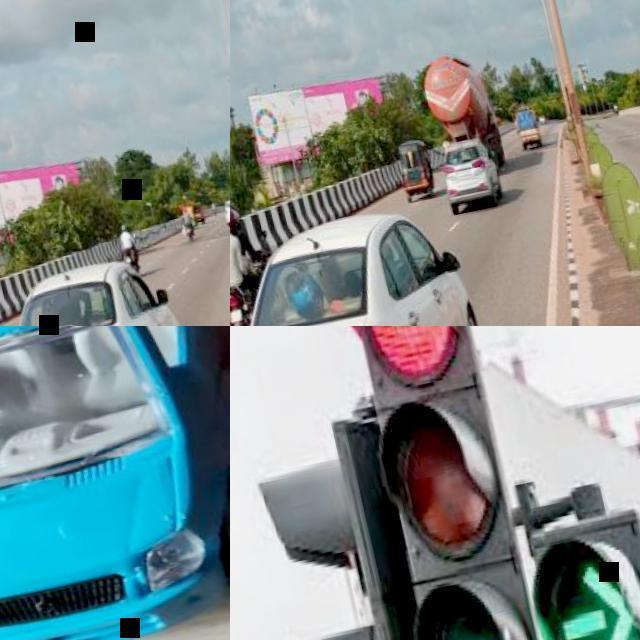car: (200, 205, 494, 639), (1, 274, 197, 639)
